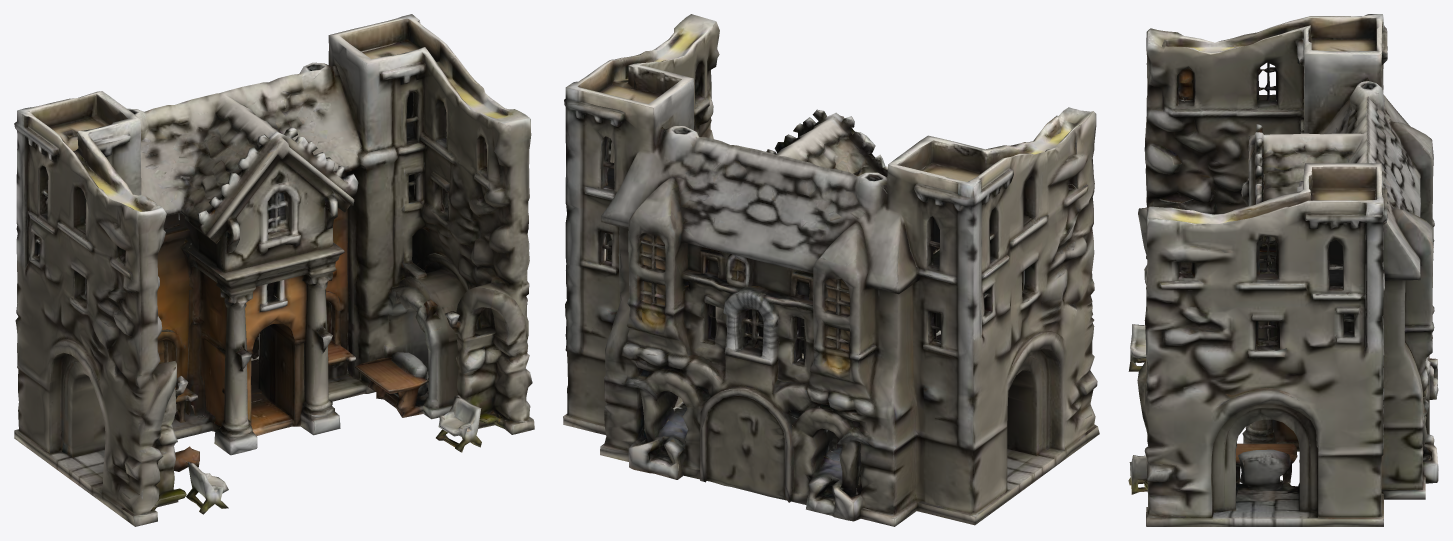
File: Dwarven Building #33_final.glb
3 views of the same model, side by side, from view 1: azimuth 30°, elevation 25°; view 2: azimuth 150°, elevation 25°; view 3: azimuth 270°, elevation 25° (orthographic). The views are drawn at different scales.
Bounding box in the file's own units: 1.91 × 1.5 × 1.31.
1 material, 1 textured.
